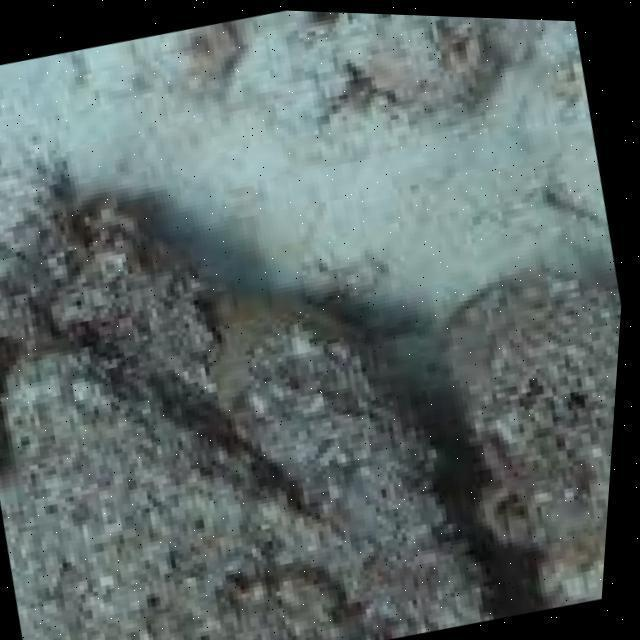Dead Coral: (0, 98, 635, 640)
